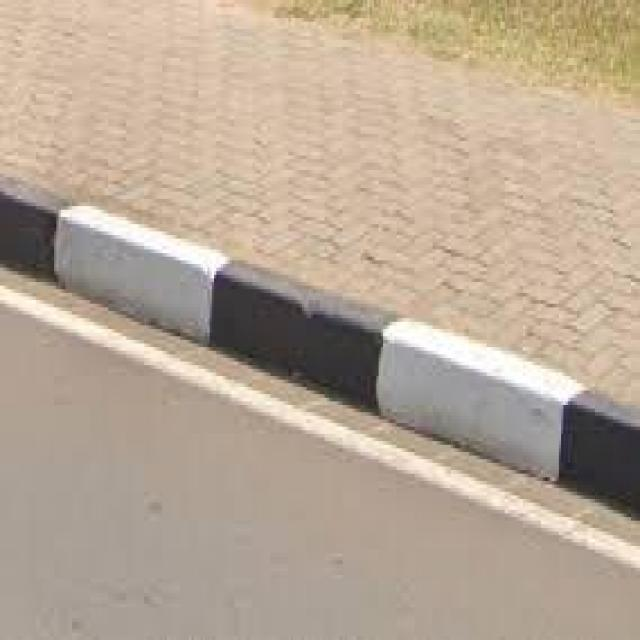curb: (1, 173, 640, 521)
